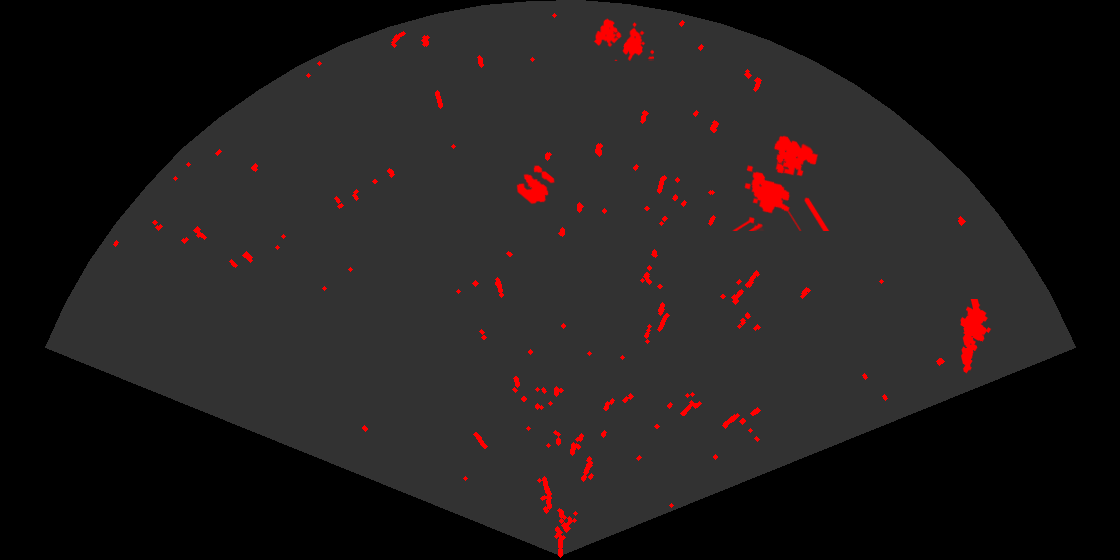ball: (515, 164, 556, 206)
cage: (731, 134, 831, 231), (592, 17, 654, 61)
frogman: (959, 299, 993, 375)
